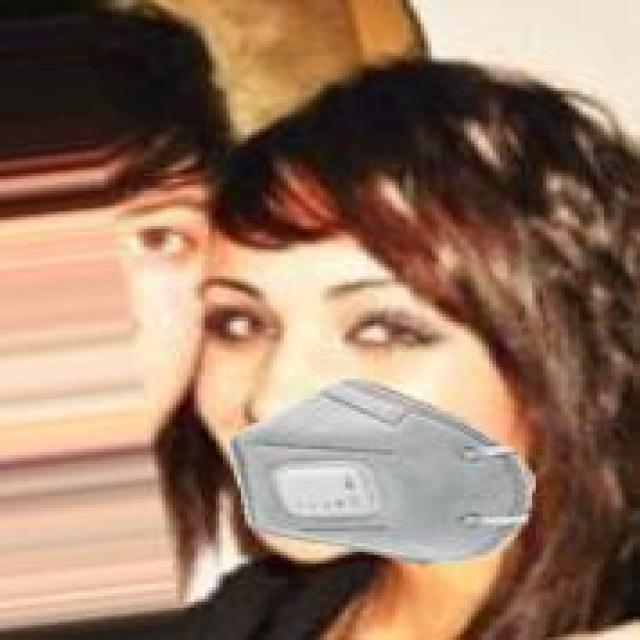mask: (216, 82, 590, 590)
